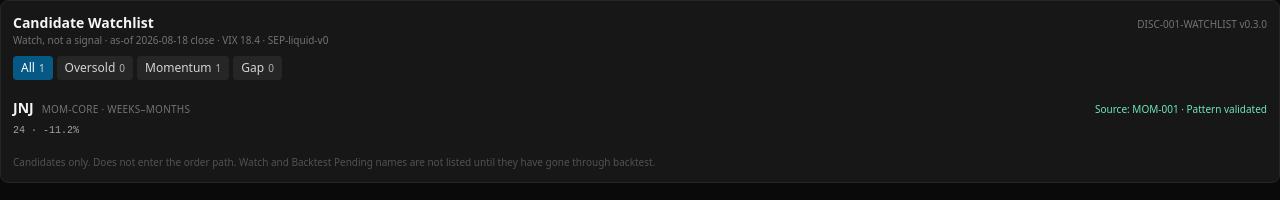
Test case: CandidateWatchlistWidget › does not list Oversold Watch names on the Oversold tab
Click the button "Oversold0" at coordinates (95, 68), box [57,56,133,80]
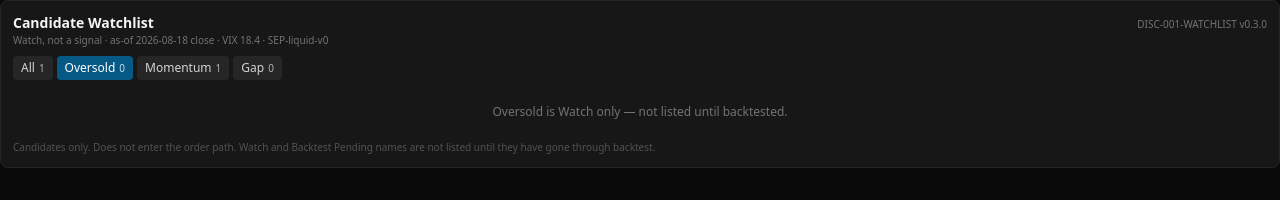
Expected: the text "Oversold is Watch only — not listed until backtested." is shown, [492,103,788,120]
